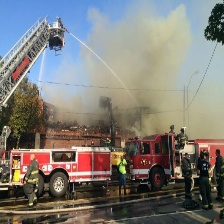smoke: (81, 7, 224, 136)
